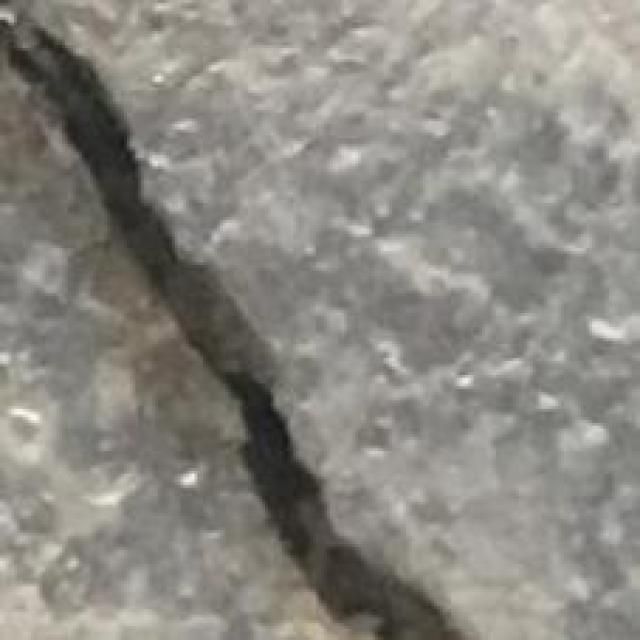Crack: (0, 22, 490, 640)
